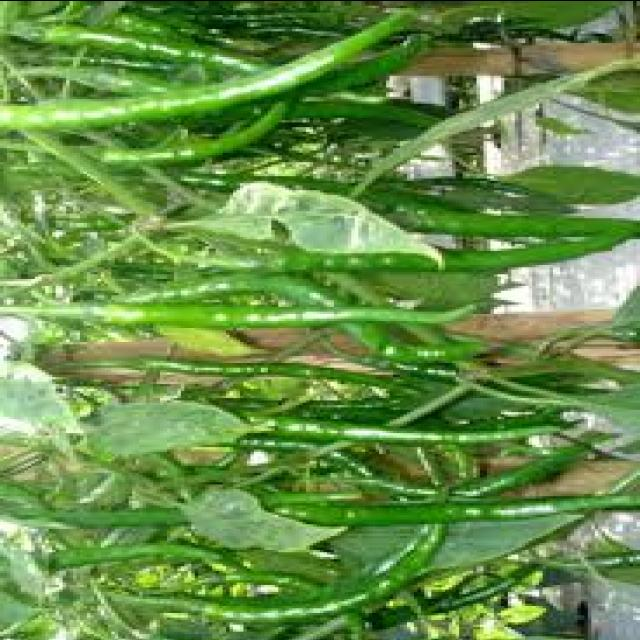sehat: (94, 384, 244, 462), (175, 481, 351, 546), (362, 548, 364, 554)
